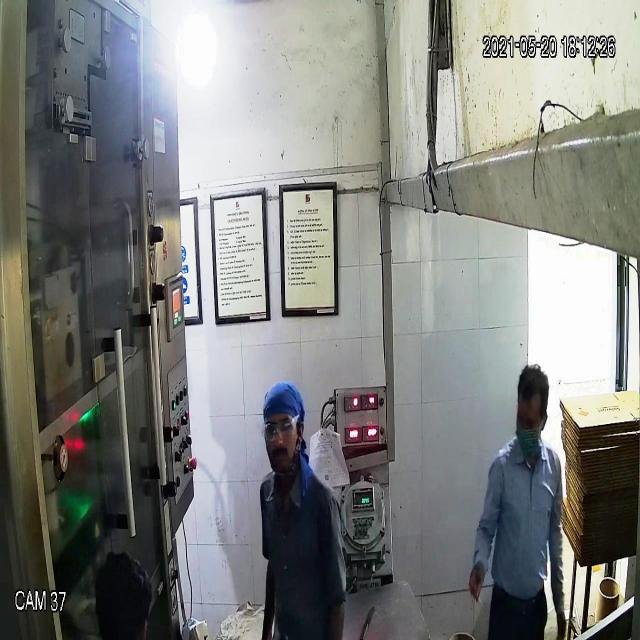glasses: (257, 412, 301, 446)
no-glass: (509, 404, 549, 434)
